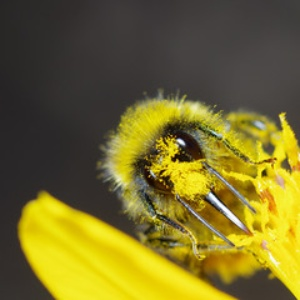bee: (100, 91, 275, 259)
